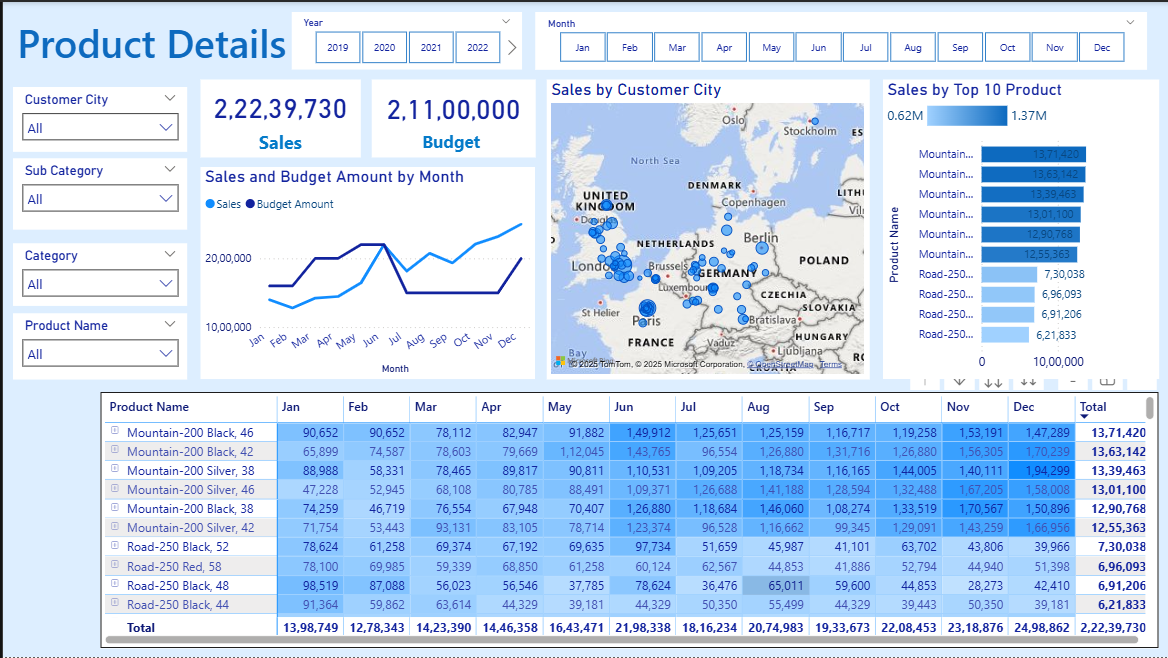

The page's visual inventory and layout, read from the dashboard file:
{"tool":"powerbi","page":{"name":"Product Details","canvas":[1280,720],"ordinal":2},"visuals":[{"type":"textbox","box":[11.4,11.4,321.4,65.7],"z":0},{"type":"slicer","fields":{"Values":["DIM_Product.Product Name"]},"box":[11.4,341.4,191.4,72.9],"z":1000},{"type":"slicer","fields":{"Values":["DIM_Product.Product Category"]},"box":[11.4,264.3,191.4,68.6],"z":2000},{"type":"slicer","fields":{"Values":["DIM_Customer.Customer City"]},"box":[11.4,92.9,191.4,71.4],"z":3000},{"type":"slicer","fields":{"Values":["DIM_Product.Sub Category"]},"box":[11.4,171.4,191.4,78.6],"z":4000},{"type":"slicer","fields":{"Values":["DIM_Calender.Year"]},"box":[317.1,11.4,252.9,62.9],"z":5000},{"type":"slicer","fields":{"Values":["DIM_Calender.Monthshort"]},"box":[584.3,11.4,671.4,62.9],"z":6000},{"type":"lineChart","title":"Sales and Budget Amount by Month","fields":{"Y":["Key Measures.Sales","Key Measures.Budget Amount"],"Category":["DIM_Calender.Monthshort"]},"box":[217.1,181.4,367.1,232.9],"z":7000},{"type":"map","fields":{"Category":["DIM_Customer.Customer City"],"Size":["Key Measures.Sales"]},"box":[597.1,85.7,354.3,328.6],"z":8000},{"type":"card","fields":{"Values":["Key Measures.Sales"]},"box":[217.1,85.7,175.7,85.7],"z":9000},{"type":"card","fields":{"Values":["Key Measures.Budget Amount"]},"box":[404.3,85.7,180,85.7],"z":10000},{"type":"pivotTable","fields":{"Rows":["DIM_Product.Product Name","DIM_Product.Product Category"],"Columns":["DIM_Calender.Monthshort"],"Values":["Key Measures.Sales"]},"box":[107.1,428.6,1161.4,281.4],"z":11000},{"type":"clusteredBarChart","title":"Sales by Top 10 Product ","fields":{"Category":["DIM_Product.Product Name","DIM_Customer.Full Name"],"Y":["Key Measures.Sales"]},"box":[965.7,85.7,302.9,328.6],"z":12000}]}

Visuals, with their boxes in screenshot pixels (x1, y1, x2, y2), scaled from the page's 1280x720 canvas onto the 1168x658 screenshot:
textbox: [10, 10, 304, 70]
slicer - DIM_Product.Product Name: [10, 312, 185, 379]
slicer - DIM_Product.Product Category: [10, 242, 185, 304]
slicer - DIM_Customer.Customer City: [10, 85, 185, 150]
slicer - DIM_Product.Sub Category: [10, 157, 185, 228]
slicer - DIM_Calender.Year: [289, 10, 520, 68]
slicer - DIM_Calender.Monthshort: [533, 10, 1146, 68]
"Sales and Budget Amount by Month" lineChart: [198, 166, 533, 379]
map - DIM_Customer.Customer City x Key Measures.Sales: [545, 78, 868, 379]
card - Key Measures.Sales: [198, 78, 358, 157]
card - Key Measures.Budget Amount: [369, 78, 533, 157]
pivotTable - DIM_Product.Product Name x DIM_Product.Product Category: [98, 392, 1158, 649]
"Sales by Top 10 Product " clusteredBarChart: [881, 78, 1158, 379]
